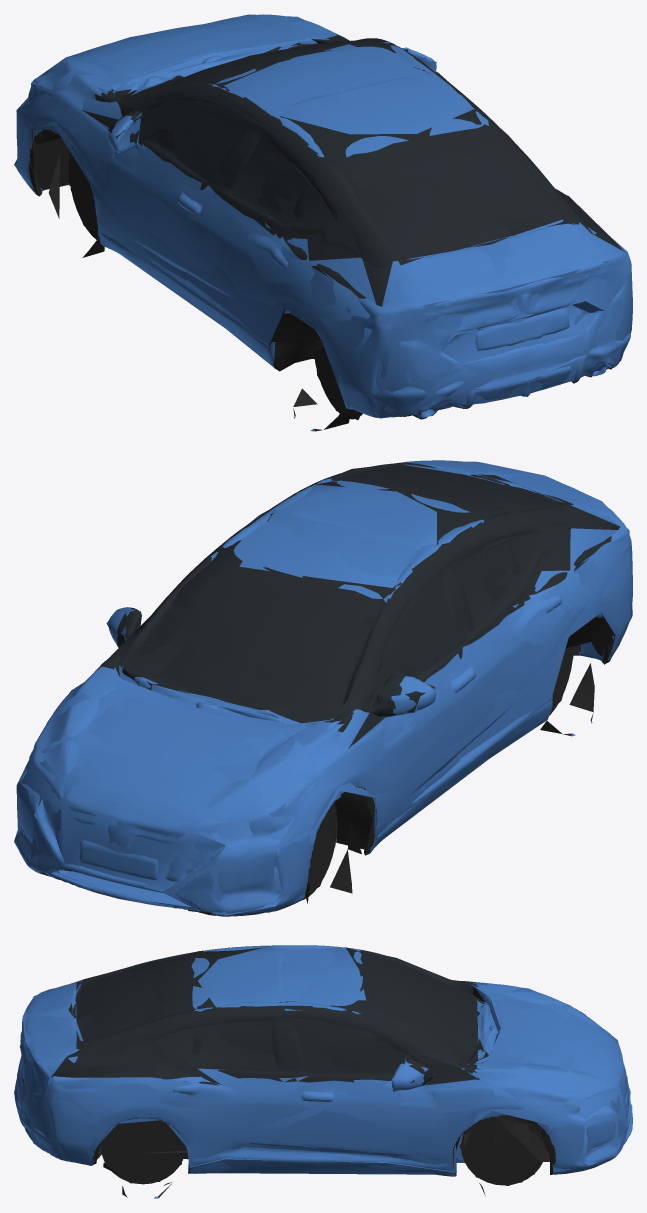
Rendered from nissan-sentra.glb.
3 renders of one model, top to bottom at view 1: azimuth 30°, elevation 25°; view 2: azimuth 150°, elevation 25°; view 3: azimuth 270°, elevation 25°, orthographic. The views are drawn at different scales.
Parts seen in each view (by area): view 1: body, far; view 2: body, far; view 3: body, far.
Boxes of the visible parts, bbox=[...] form: body: bbox=[16, 14, 632, 431]; far: bbox=[14, 14, 631, 419]; body: bbox=[16, 460, 632, 916]; far: bbox=[14, 461, 632, 915]; body: bbox=[14, 945, 632, 1198]; far: bbox=[14, 946, 632, 1196].
Bounding box in the file's own units: 2.09 × 1.47 × 4.66.
